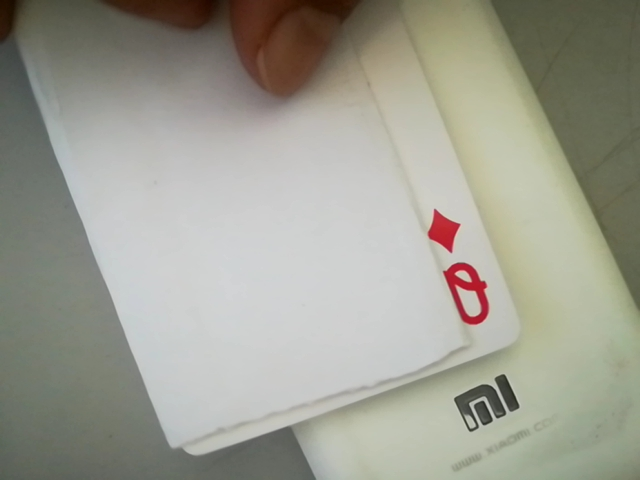fk q: (418, 204, 501, 338)
